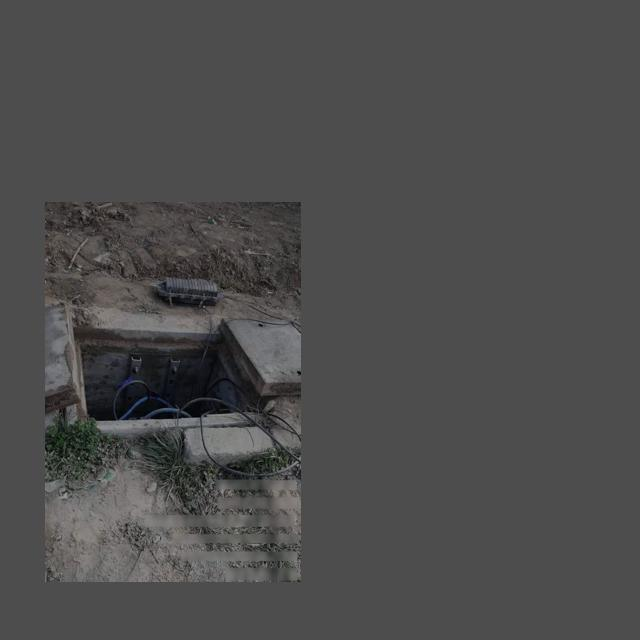uncovered: (44, 301, 299, 430)
